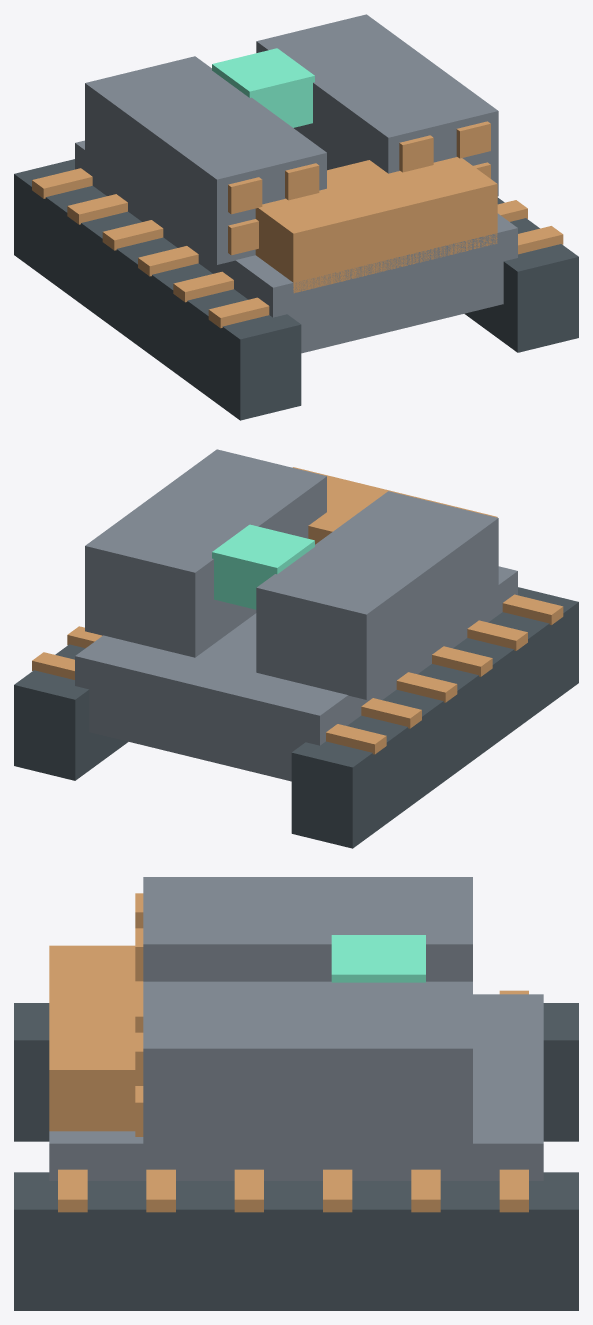
File: boss-missile.glb
3 views of the same model, one above another, from view 1: azimuth 30°, elevation 25°; view 2: azimuth 150°, elevation 25°; view 3: azimuth 270°, elevation 25° (orthographic). The views are drawn at different scales.
Parts seen in each view (by area): view 1: MissilePod, Track, CommandCab, MissilePod.001, Chassis, Track.001, Core, Tread, Tread.003, Tread.001, Tread.004, Tread.002 (+7 smaller); view 2: MissilePod, Track, MissilePod.001, Chassis, Track.001, Core, CommandCab, Tread, Tread.003, Tread.005, Tread.002, Tread.004 (+2 smaller); view 3: Track.001, MissilePod.001, MissilePod, Chassis, CommandCab, Track, Core, Tread.006, Tread.007, Tread.010, Tread.008, Tread.009 (+1 smaller).
Part boxes in pixels (left/top/right/bottom): MissilePod: left=85, top=56, right=326, bottom=264; Track: left=14, top=159, right=301, bottom=420; CommandCab: left=255, top=157, right=497, bottom=293; MissilePod.001: left=256, top=14, right=498, bottom=196; Chassis: left=75, top=140, right=517, bottom=353; Track.001: left=464, top=197, right=578, bottom=352; Core: left=212, top=48, right=314, bottom=127; Tread: left=208, top=297, right=269, bottom=328; Tread.003: left=102, top=220, right=163, bottom=250; Tread.001: left=173, top=271, right=233, bottom=302; Tread.004: left=67, top=194, right=127, bottom=224; Tread.002: left=138, top=246, right=198, bottom=276; MissilePod: left=256, top=491, right=498, bottom=699; Track: left=291, top=587, right=578, bottom=848; MissilePod.001: left=85, top=449, right=326, bottom=657; Chassis: left=75, top=566, right=517, bottom=781; Track.001: left=14, top=644, right=128, bottom=780; Core: left=212, top=524, right=314, bottom=609; CommandCab: left=293, top=467, right=497, bottom=544; Tread: left=502, top=594, right=563, bottom=625; Tread.003: left=396, top=672, right=457, bottom=702; Tread.005: left=326, top=724, right=386, bottom=754; Tread.002: left=432, top=646, right=492, bottom=676; Tread.004: left=361, top=698, right=421, bottom=728; Track.001: left=14, top=1172, right=578, bottom=1310; MissilePod.001: left=143, top=981, right=472, bottom=1155; MissilePod: left=143, top=877, right=472, bottom=981; Chassis: left=49, top=994, right=543, bottom=1180; CommandCab: left=49, top=945, right=143, bottom=1131; Track: left=14, top=1003, right=578, bottom=1141; Core: left=331, top=935, right=425, bottom=982; Tread.006: left=58, top=1169, right=87, bottom=1212; Tread.007: left=146, top=1169, right=175, bottom=1212; Tread.010: left=411, top=1169, right=440, bottom=1212; Tread.008: left=234, top=1169, right=263, bottom=1212; Tread.009: left=323, top=1169, right=352, bottom=1212.
Size of the model in its own units: 4.2 by 2.37 by 4.8.
